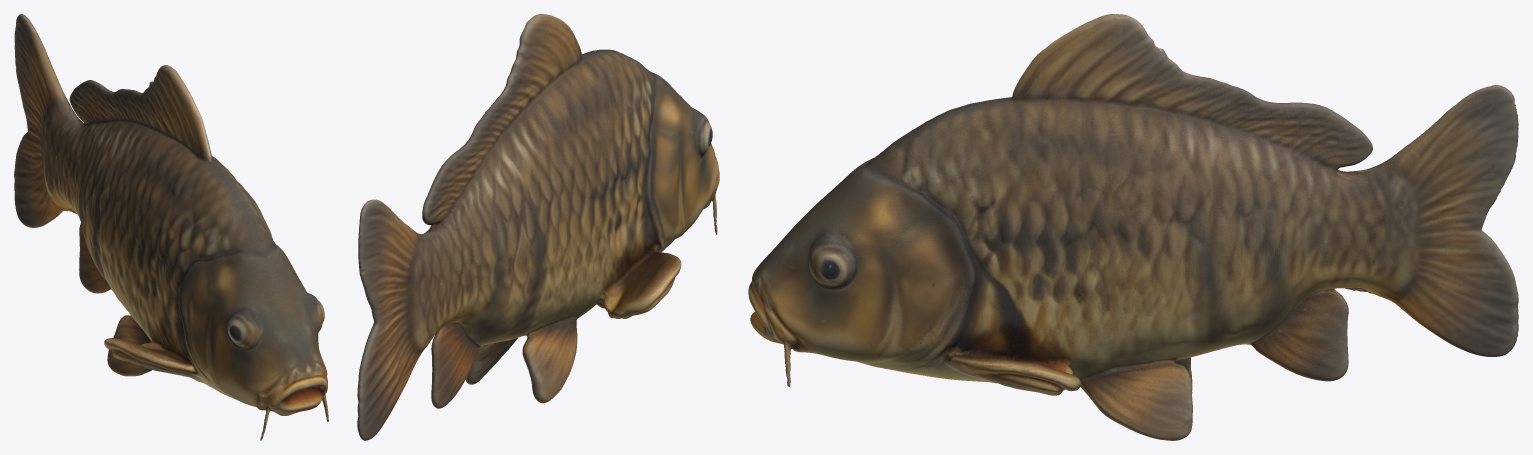
The model's file is CommonCarp.glb.
3 renders of one model, left to right at view 1: azimuth 30°, elevation 25°; view 2: azimuth 150°, elevation 25°; view 3: azimuth 270°, elevation 25°, orthographic. The views are drawn at different scales.
Size of the model in its own units: 0.6755 by 1.17 by 2.
Materials: 1 (1 with a texture image).
